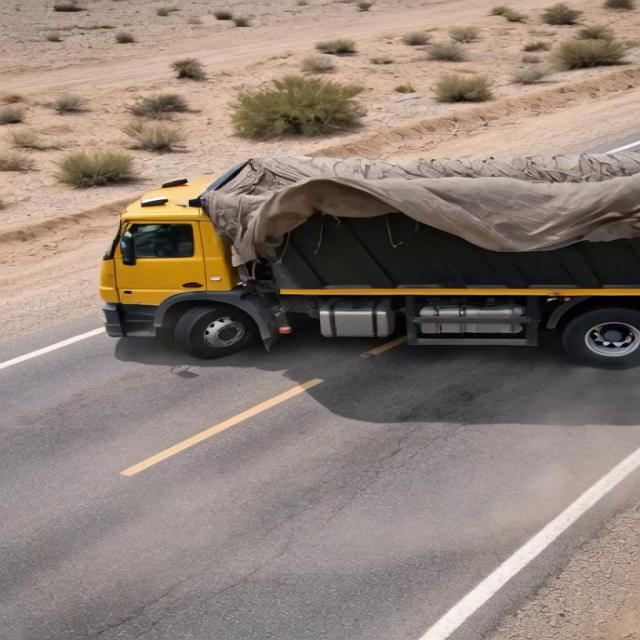trailer: (217, 150, 635, 242)
truck: (96, 142, 634, 360)
